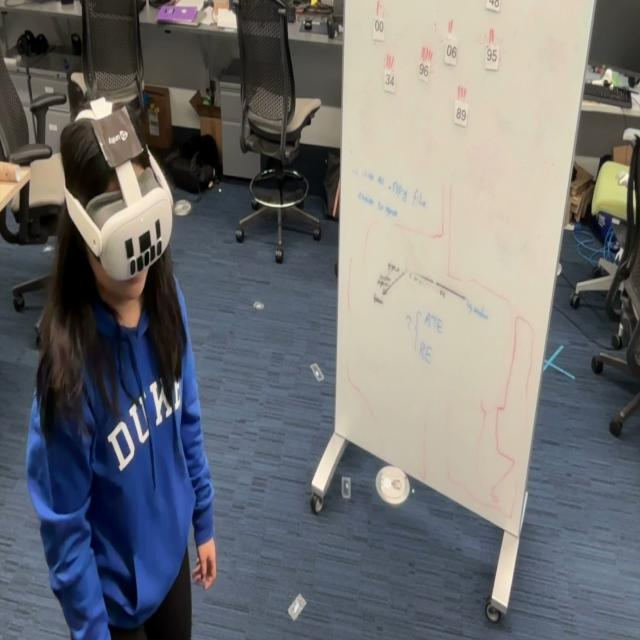Headset: (61, 108, 174, 283)
UnityLogo: (90, 103, 144, 170)
